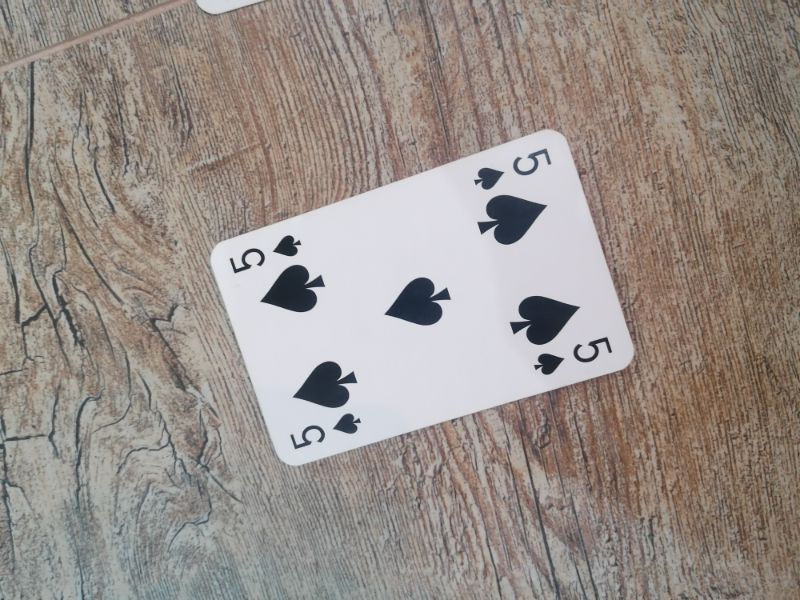5s: (472, 145, 555, 194), (531, 335, 615, 379), (224, 230, 304, 276), (286, 412, 364, 453)
